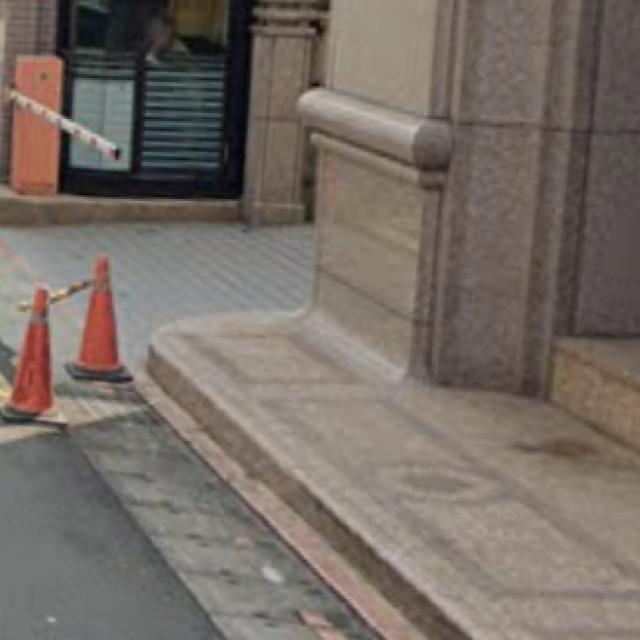cone: (67, 234, 128, 385), (7, 282, 64, 428)
